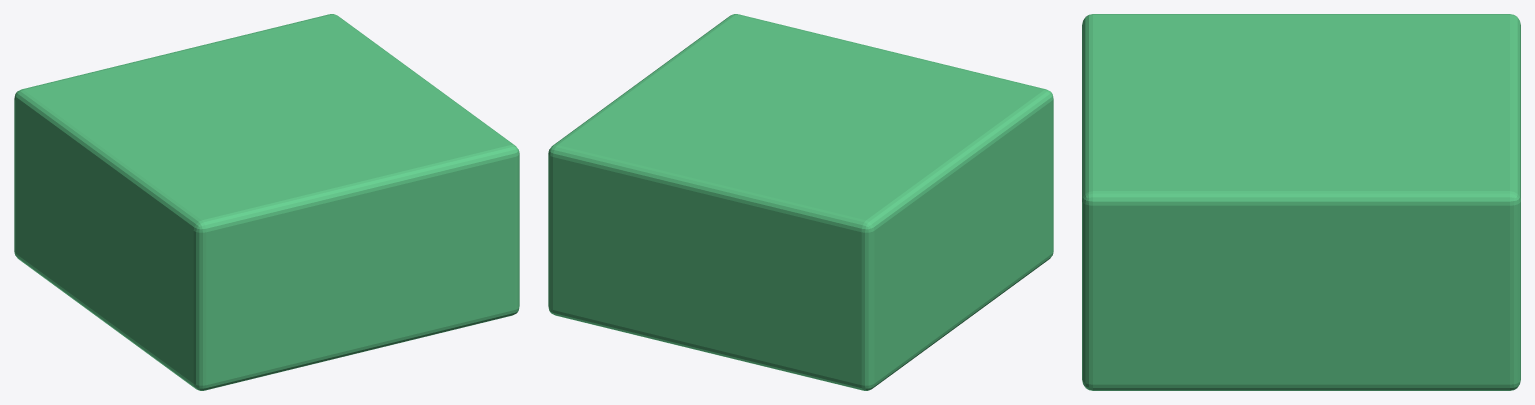
The picture shows the model from 3 angles, left to right: view 1: azimuth 30°, elevation 25°; view 2: azimuth 150°, elevation 25°; view 3: azimuth 270°, elevation 25°; orthographic projection. The views are drawn at different scales.
Visible parts, largest first — view 1: O.001; view 2: O.001; view 3: O.001.
Boxes of the visible parts, x1,y1,x2,y2 form: O.001: (14,14,519,390); O.001: (548,14,1053,390); O.001: (1082,14,1520,390).
Bounding box in the file's own units: 4 × 2 × 4.
1 material, 1 textured.
